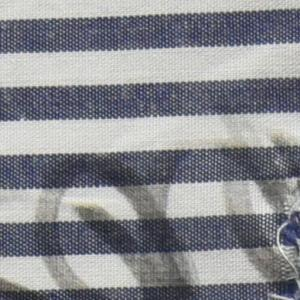Damage: (275, 170, 300, 300)
Stain: (1, 126, 300, 300)
